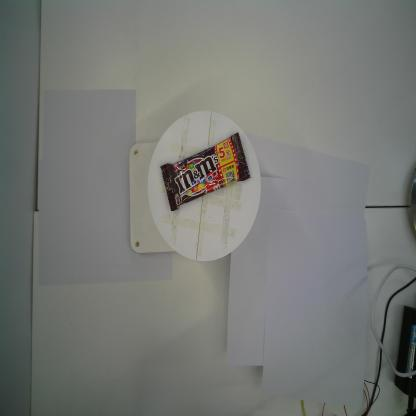Chocolate: (160, 132, 252, 213)
